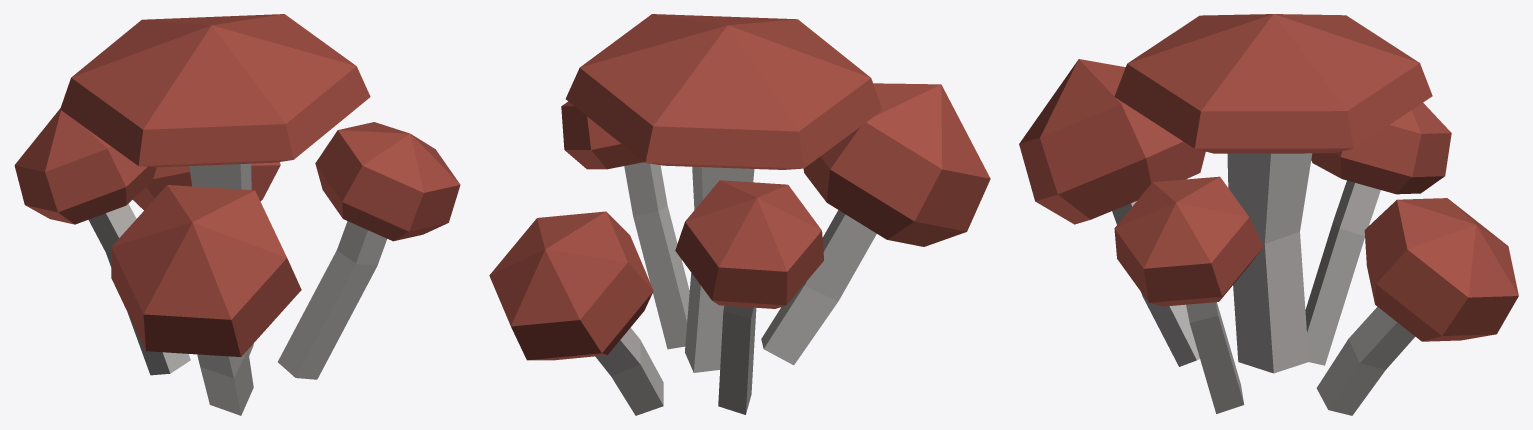
The model's file is SM_Prop_Mushroom_Group_04.fbx.
3 views of the same model, side by side, from view 1: azimuth 30°, elevation 25°; view 2: azimuth 150°, elevation 25°; view 3: azimuth 270°, elevation 25° (orthographic). The views are drawn at different scales.
Visible parts, largest first — view 1: SM_Prop_Mushroom_Group_04; view 2: SM_Prop_Mushroom_Group_04; view 3: SM_Prop_Mushroom_Group_04.
Part boxes in pixels (<box>): SM_Prop_Mushroom_Group_04: <box>14,14,460,415</box>; SM_Prop_Mushroom_Group_04: <box>489,14,990,415</box>; SM_Prop_Mushroom_Group_04: <box>1019,14,1518,415</box>.
Size of the model in its own units: 25.79 by 25.39 by 30.58.
1 material, 1 textured.
